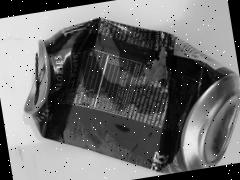metal: (7, 0, 240, 180)
